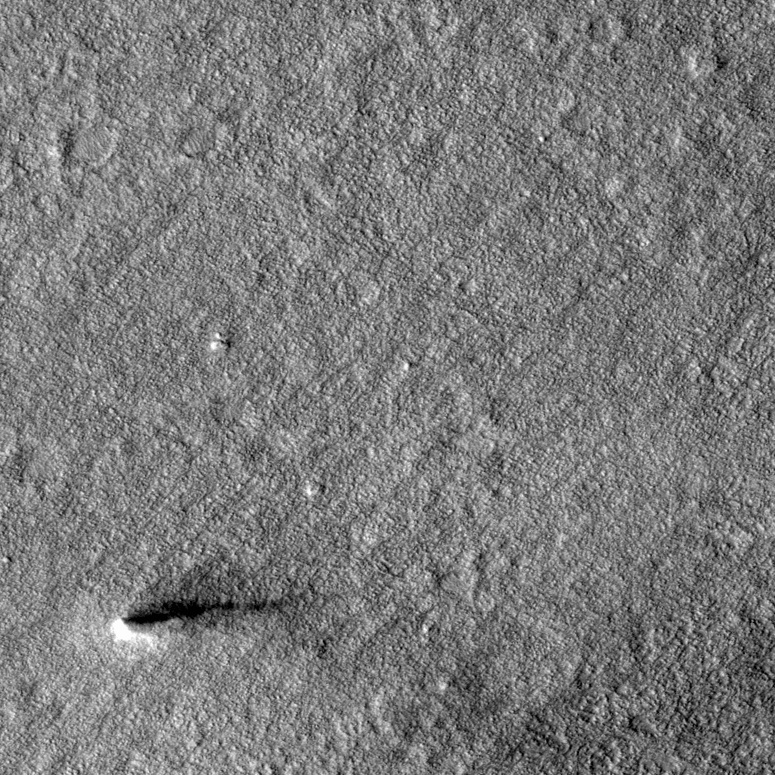dust_devil: (109, 589, 300, 646)
